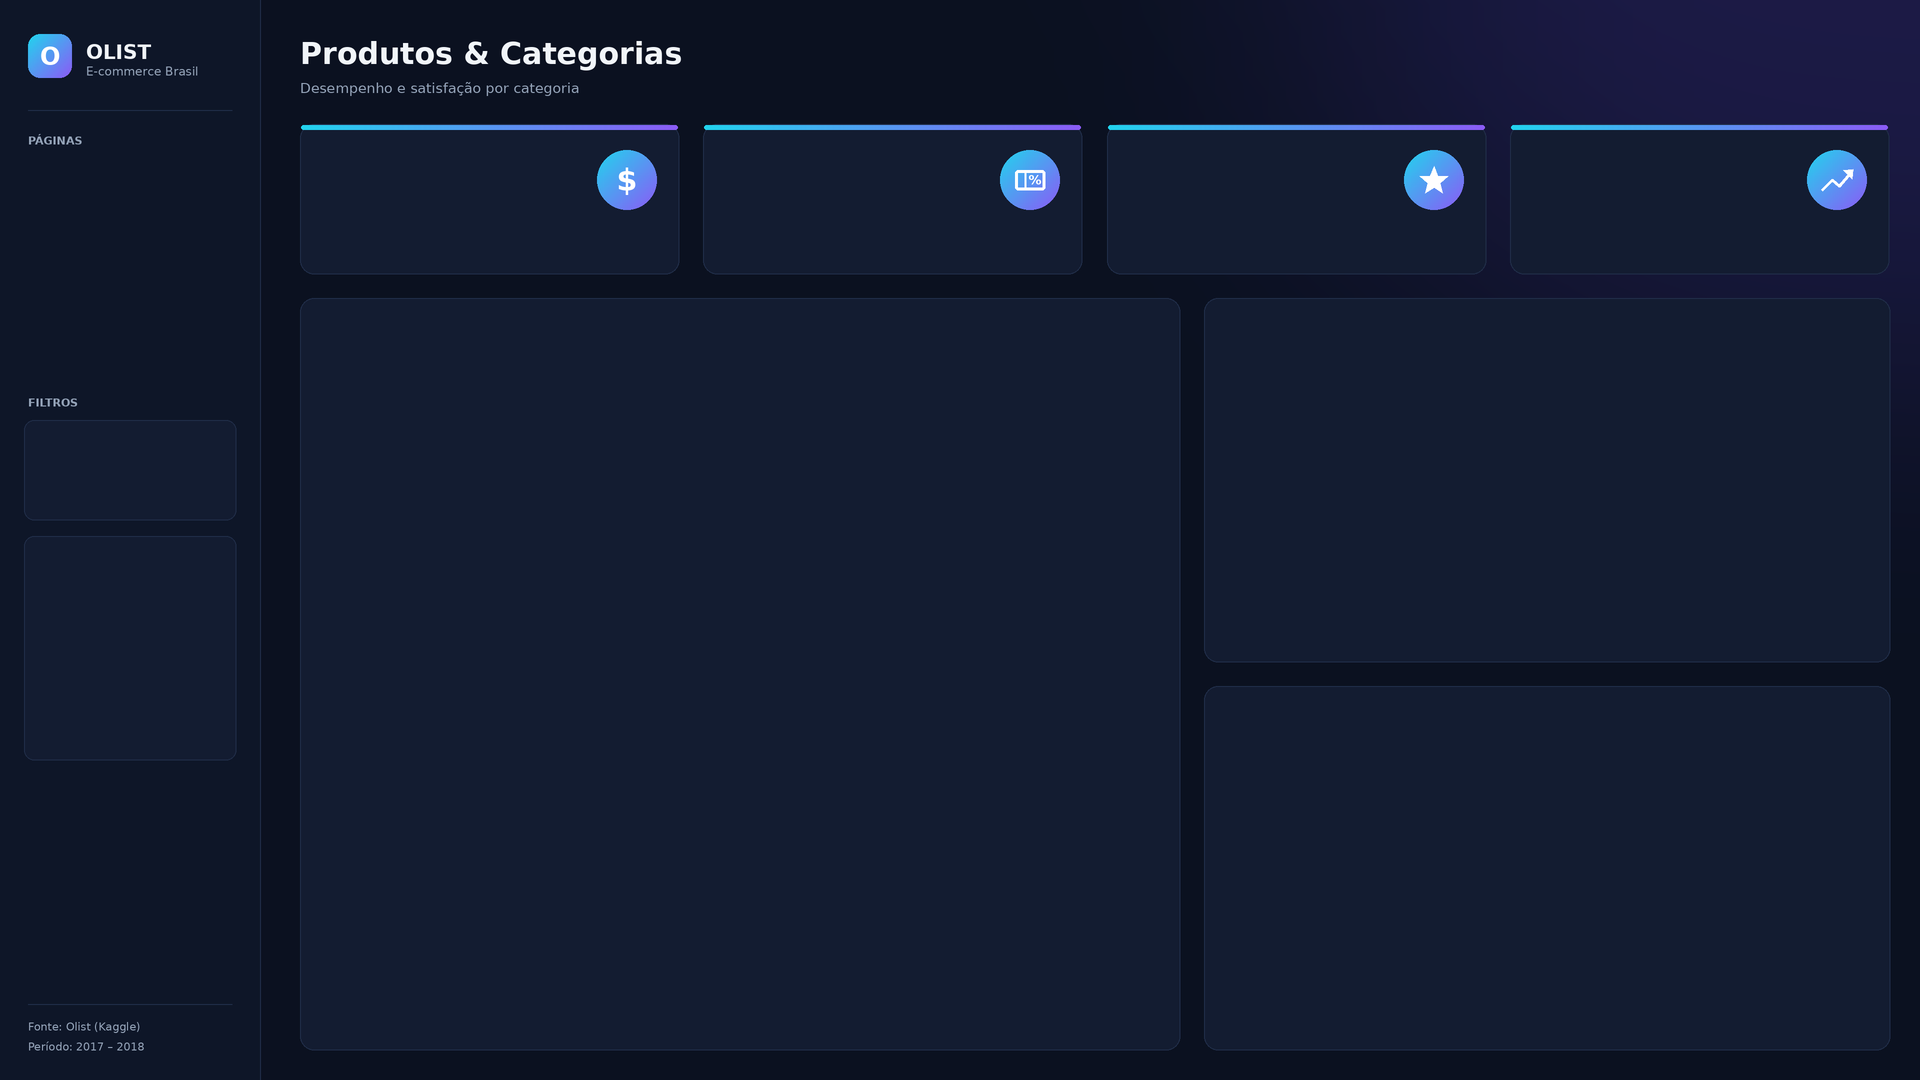

The page's visual inventory and layout, read from the dashboard file:
{"tool":"powerbi","page":{"name":"Produtos","canvas":[1920,1080],"ordinal":1},"visuals":[{"type":"cardVisual","fields":{"Data":["_Medidas.Faturamento"]},"box":[320,135,275,115],"z":0},{"type":"cardVisual","fields":{"Data":["_Medidas.Ticket Médio"]},"box":[717.5,135,242.5,115],"z":1000},{"type":"cardVisual","fields":{"Data":["_Medidas.Frete Total"]},"box":[1520,135,252.5,115],"z":2000},{"type":"cardVisual","fields":{"Data":["_Medidas.Nota Média"]},"box":[1135,135,237.5,115],"z":3000},{"type":"tableEx","title":"Ranking de Categorias","fields":{"Values":["dProdutos.Categoria","_Medidas.Faturamento","_Medidas.Pedidos","_Medidas.Ticket Médio","_Medidas.Nota Média"]},"box":[320.3,305.8,850.5,727.5],"z":6000},{"type":"clusteredBarChart","title":"Top 10 por Ticket Médio","fields":{"Category":["dProdutos.Categoria"],"Y":["_Medidas.Ticket Médio"]},"box":[1198,300,700,364],"z":7000},{"type":"scatterChart","title":"Faturamento × Satisfação","fields":{"Category":["dProdutos.Categoria"],"Size":["_Medidas.Pedidos"],"X":["_Medidas.Faturamento"],"Y":["_Medidas.Nota Média"]},"box":[1232,702,666,332],"z":8000},{"type":"pageNavigator","box":[14,172,232,196],"z":8001},{"type":"slicer","fields":{"Values":["dCalendario.Ano"]},"box":[28,428,204,88],"z":8002},{"type":"slicer","fields":{"Values":["dClientes.customer_state"]},"box":[27.1,539.3,204.5,211.7],"z":8003}]}

Visuals, with their boxes on the page's 1920x1080 design canvas (x1, y1, x2, y2). These are canvas units, not pixel positions in the 1920x1080 screenshot, which may show the page scaled, cropped or inside an application window:
cardVisual - _Medidas.Faturamento: box=[320, 135, 595, 250]
cardVisual - _Medidas.Ticket Médio: box=[718, 135, 960, 250]
cardVisual - _Medidas.Frete Total: box=[1520, 135, 1772, 250]
cardVisual - _Medidas.Nota Média: box=[1135, 135, 1372, 250]
"Ranking de Categorias" tableEx: box=[320, 306, 1171, 1033]
"Top 10 por Ticket Médio" clusteredBarChart: box=[1198, 300, 1898, 664]
"Faturamento × Satisfação" scatterChart: box=[1232, 702, 1898, 1034]
pageNavigator: box=[14, 172, 246, 368]
slicer - dCalendario.Ano: box=[28, 428, 232, 516]
slicer - dClientes.customer_state: box=[27, 539, 232, 751]
